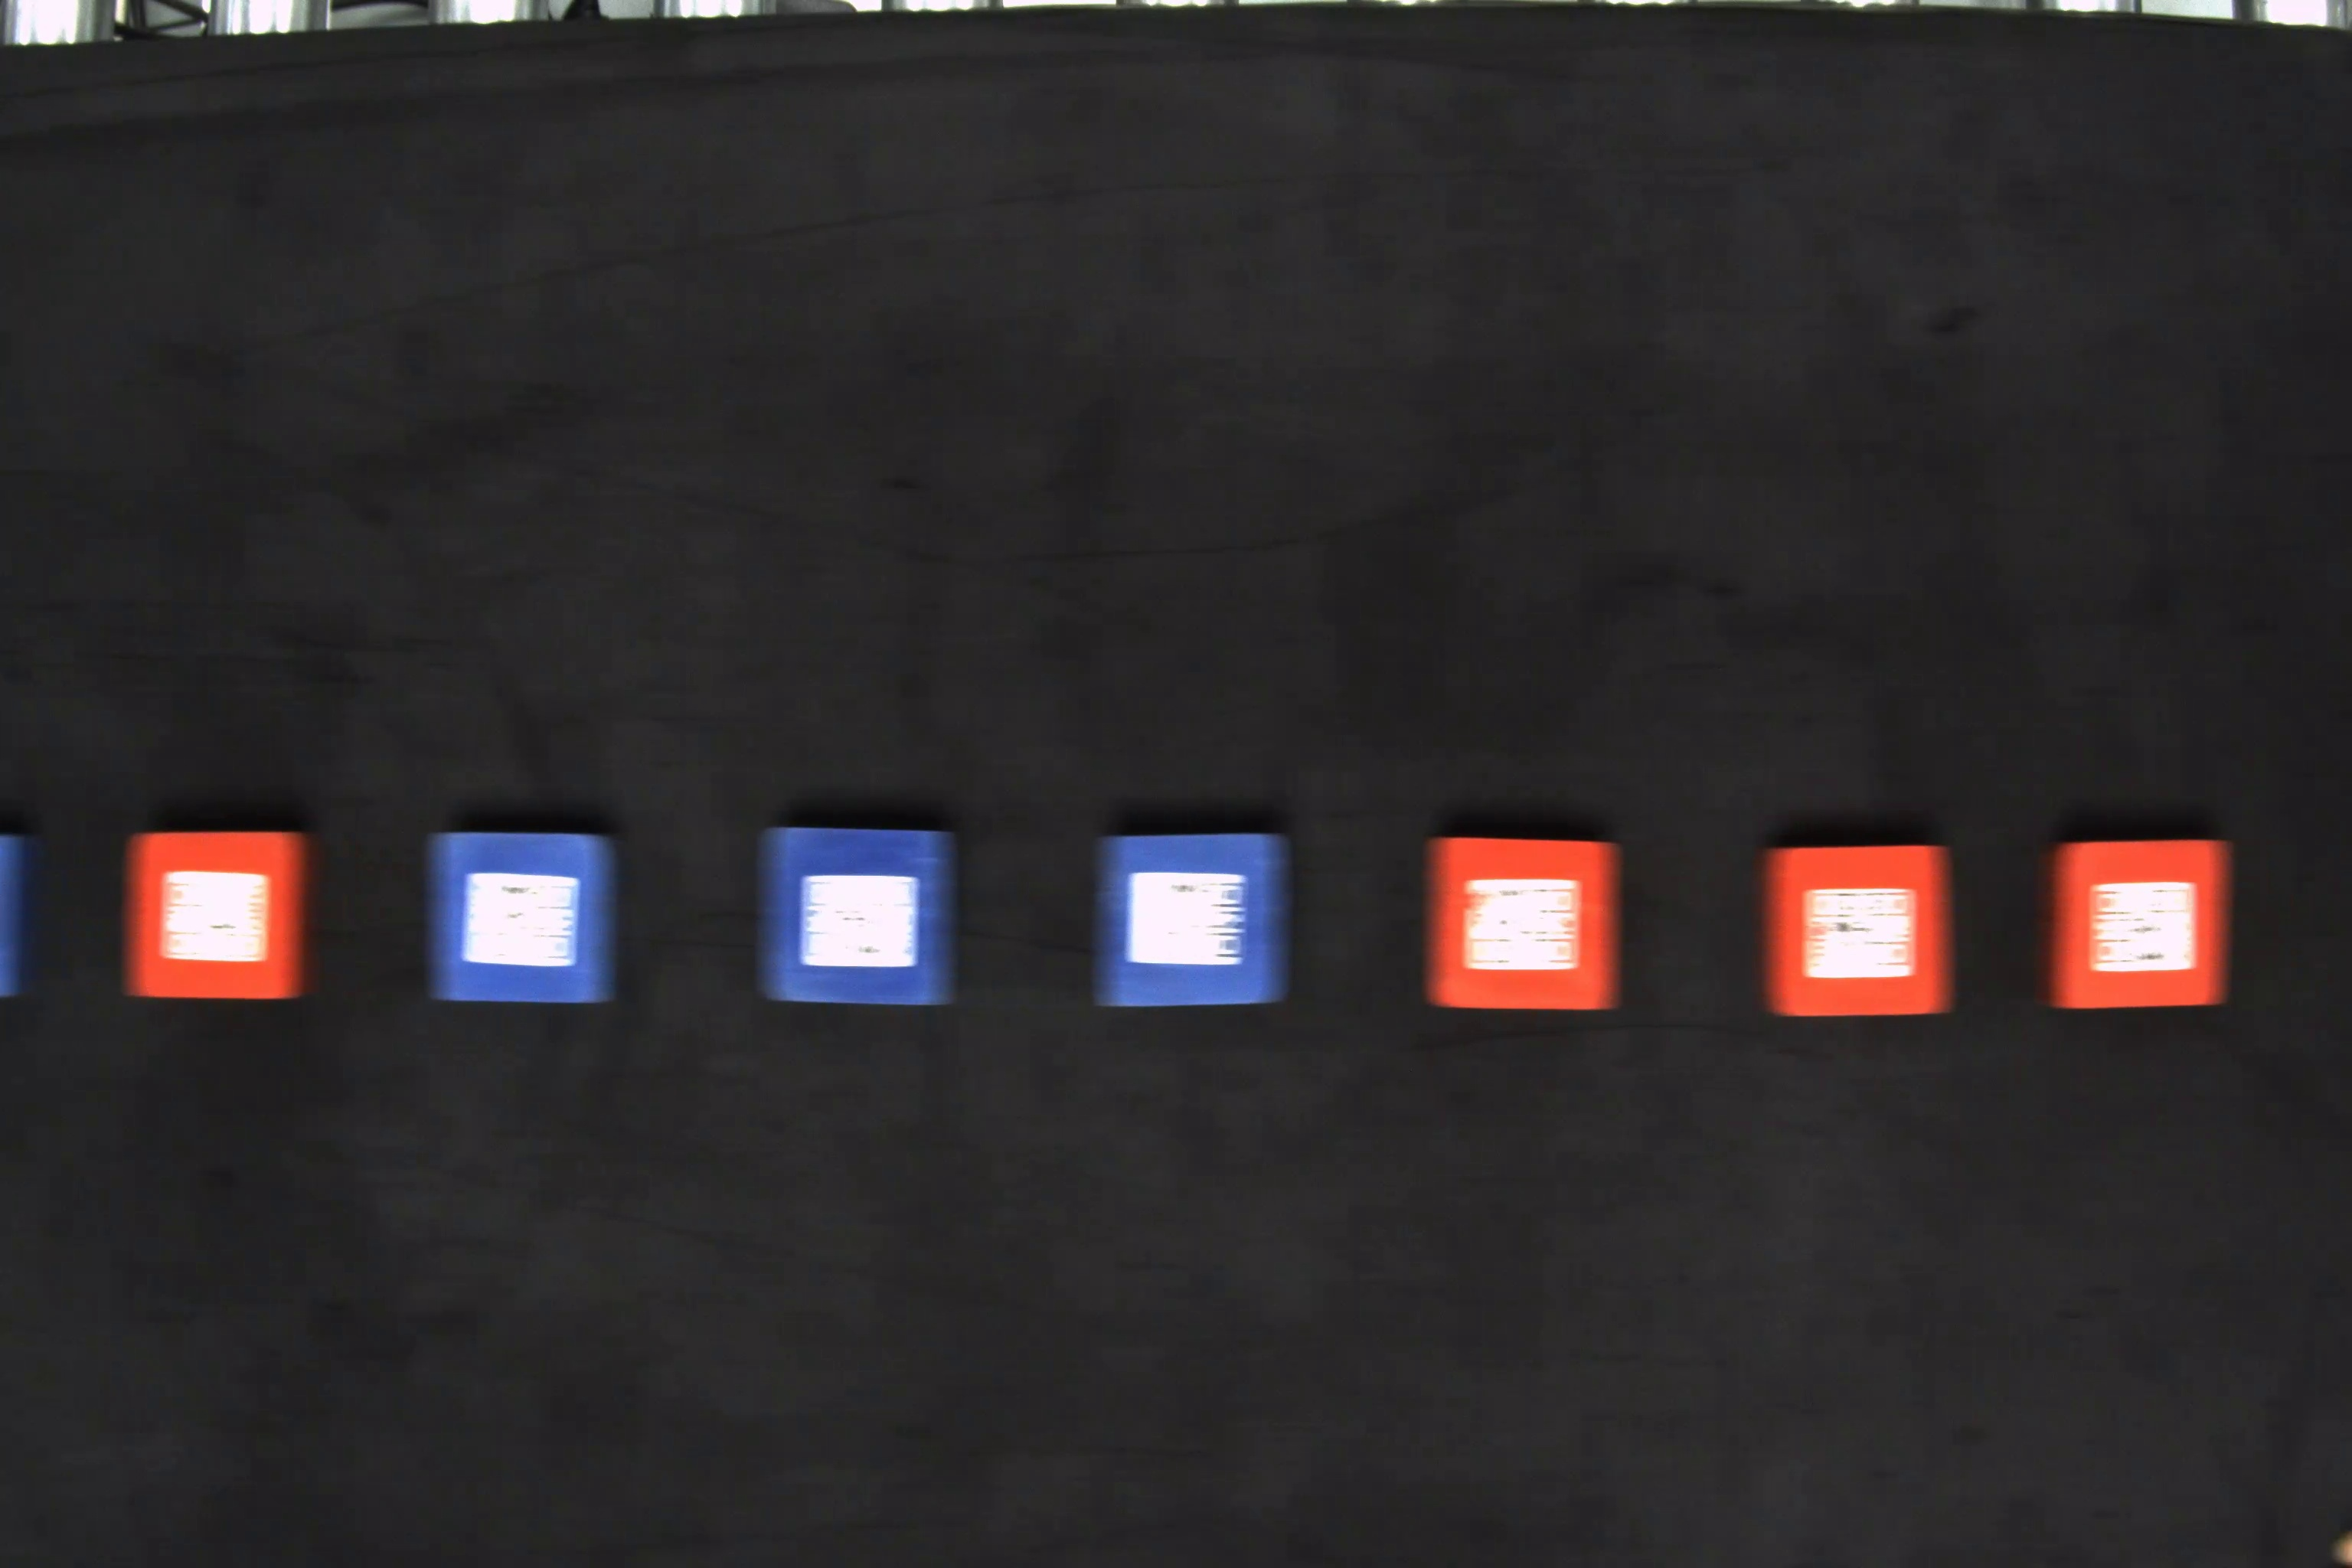wood: (761, 824, 962, 1011), (1095, 828, 1295, 1013), (1421, 840, 1622, 1018), (422, 828, 619, 1003), (1757, 843, 1960, 1013), (122, 831, 318, 1001), (2042, 842, 2238, 1011)
